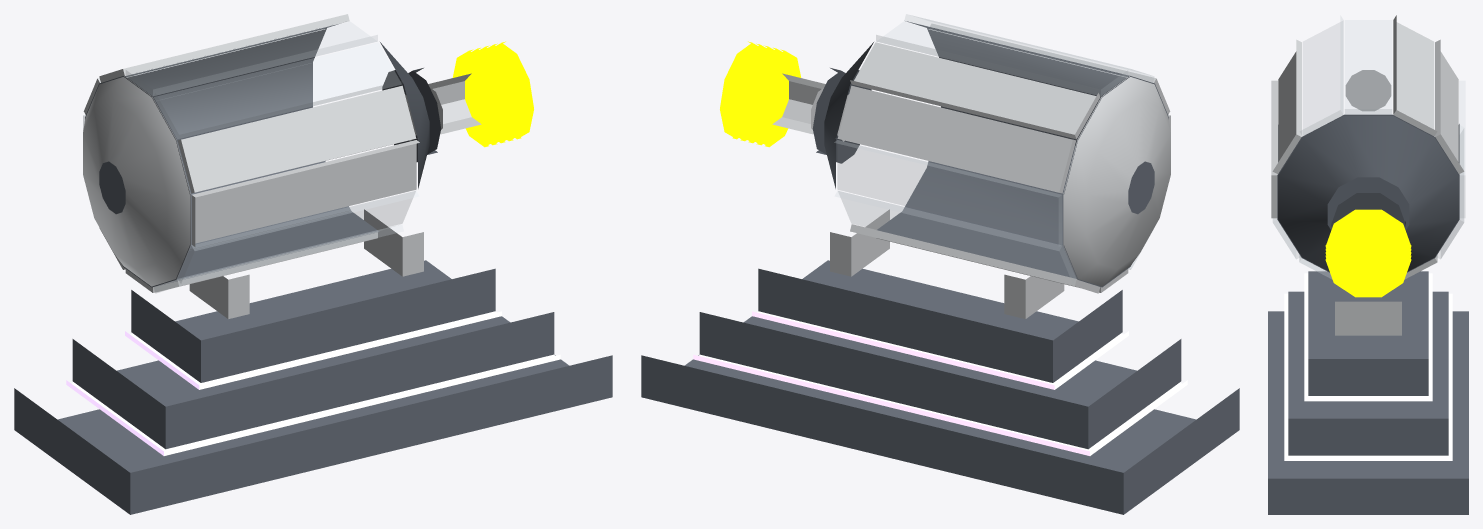
File: ext_memorial_aegis_03.glb
3 renders of one model, left to right at view 1: azimuth 30°, elevation 25°; view 2: azimuth 150°, elevation 25°; view 3: azimuth 270°, elevation 25°, orthographic. The views are drawn at different scales.
Parts seen in each view (by area): view 1: Tiers, Drum_Hull_Strips, Drum_Solarium_Glass, Drum_Core, Fwd_Endcap_Dome, Light_Seams, Fusion_Coils, Saddles, Aft_Baffle_Bulkhead, Starport_Spine, Docking_Collar; view 2: Tiers, Drum_Hull_Strips, Drum_Solarium_Glass, Drum_Core, Fwd_Endcap_Dome, Light_Seams, Fusion_Coils, Saddles, Aft_Baffle_Bulkhead, Starport_Spine, Docking_Collar; view 3: Tiers, Aft_Baffle_Bulkhead, Drum_Solarium_Glass, Drum_Hull_Strips, Fusion_Coils, Light_Seams, Saddles, Drum_Core, Fwd_Endcap_Dome, Docking_Collar.
Part boxes in pixels (bbox=[...]): Tiers: bbox=[14, 260, 612, 514]; Drum_Hull_Strips: bbox=[83, 14, 419, 292]; Drum_Solarium_Glass: bbox=[83, 22, 418, 292]; Drum_Core: bbox=[85, 24, 379, 287]; Fwd_Endcap_Dome: bbox=[83, 76, 190, 286]; Light_Seams: bbox=[66, 311, 560, 455]; Fusion_Coils: bbox=[452, 41, 533, 147]; Saddles: bbox=[189, 209, 423, 318]; Aft_Baffle_Bulkhead: bbox=[380, 42, 429, 188]; Starport_Spine: bbox=[405, 73, 481, 141]; Docking_Collar: bbox=[408, 68, 441, 154]; Tiers: bbox=[641, 260, 1239, 514]; Drum_Hull_Strips: bbox=[837, 23, 1170, 293]; Drum_Solarium_Glass: bbox=[834, 14, 1153, 282]; Drum_Core: bbox=[877, 21, 1168, 287]; Fwd_Endcap_Dome: bbox=[1063, 76, 1170, 286]; Light_Seams: bbox=[693, 311, 1187, 455]; Fusion_Coils: bbox=[720, 41, 801, 147]; Saddles: bbox=[830, 209, 1064, 318]; Aft_Baffle_Bulkhead: bbox=[824, 42, 873, 188]; Starport_Spine: bbox=[772, 73, 848, 141]; Docking_Collar: bbox=[812, 68, 845, 154]; Tiers: bbox=[1268, 271, 1468, 514]; Aft_Baffle_Bulkhead: bbox=[1278, 114, 1458, 271]; Drum_Solarium_Glass: bbox=[1273, 16, 1465, 278]; Drum_Hull_Strips: bbox=[1271, 15, 1464, 279]; Fusion_Coils: bbox=[1325, 209, 1411, 297]; Light_Seams: bbox=[1284, 273, 1452, 460]; Saddles: bbox=[1335, 301, 1401, 335]; Drum_Core: bbox=[1277, 115, 1459, 272]; Fwd_Endcap_Dome: bbox=[1345, 70, 1391, 111]; Docking_Collar: bbox=[1331, 193, 1405, 227].
Size of the model in its own units: 3.6 by 2.69 by 1.5.
